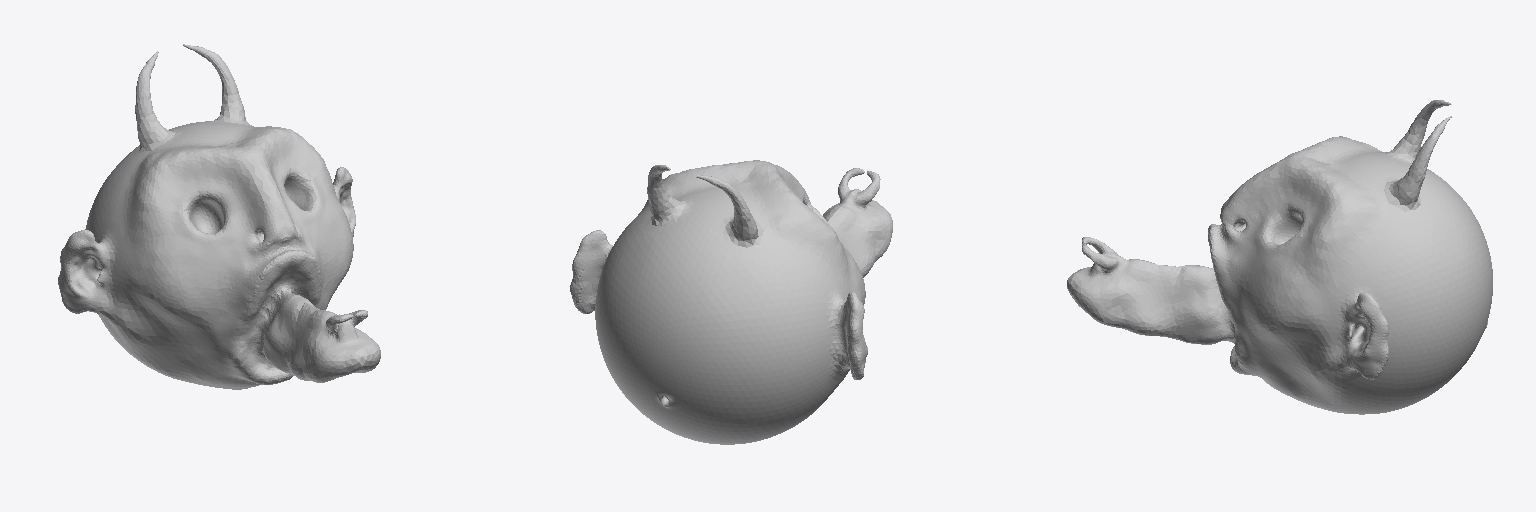
Rendered from Devil thingie.obj.
3 renders of one model, left to right at view 1: azimuth 30°, elevation 25°; view 2: azimuth 150°, elevation 25°; view 3: azimuth 270°, elevation 25°, orthographic.
Bounding box in the file's own units: 2.54 × 2.44 × 3.22.